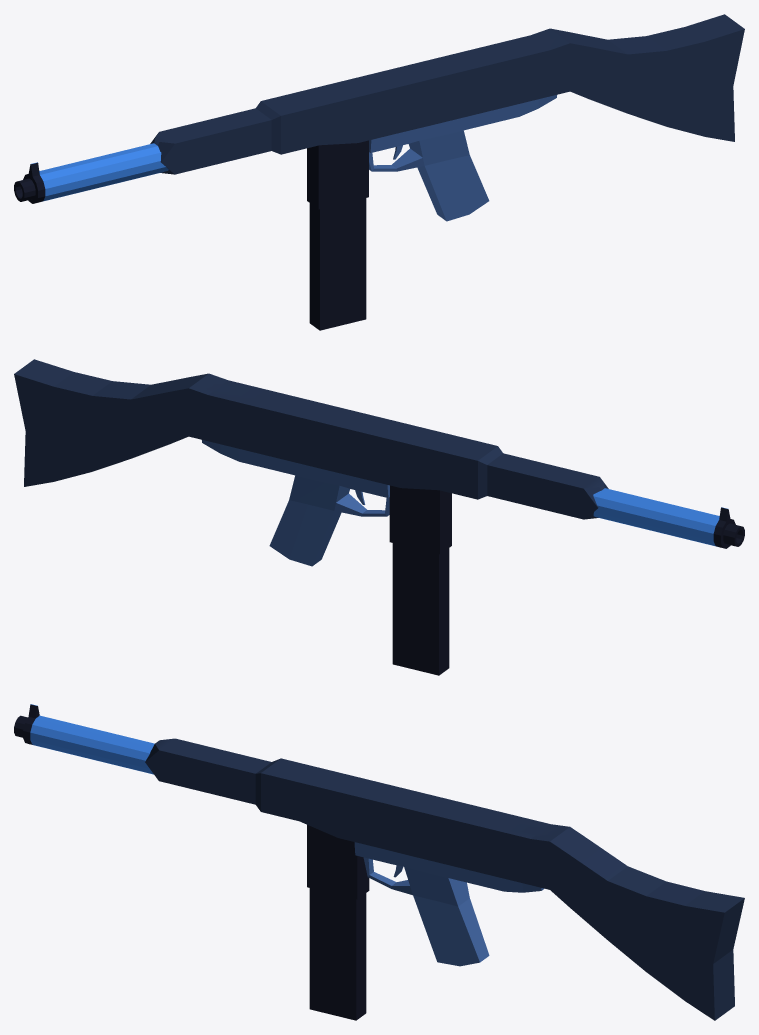
File: Light Rifle.fbx
3 renders of one model, top to bottom at view 1: azimuth 30°, elevation 25°; view 2: azimuth 150°, elevation 25°; view 3: azimuth 330°, elevation 25°, orthographic.
Visible parts, largest first — view 1: Cube, Cube.002, Cube.001, Cylinder; view 2: Cube, Cube.002, Cube.001, Cylinder; view 3: Cube, Cube.002, Cube.001, Cylinder.
Boxes of the visible parts, x1,y1,x2,y2 form: Cube: (150, 14, 744, 174); Cube.002: (307, 140, 368, 330); Cube.001: (369, 95, 556, 221); Cylinder: (14, 143, 168, 203); Cube: (14, 359, 608, 519); Cube.002: (389, 485, 451, 675); Cube.001: (202, 440, 389, 566); Cylinder: (593, 488, 744, 548); Cube: (145, 738, 744, 1020); Cube.002: (307, 825, 369, 1020); Cube.001: (354, 842, 543, 966); Cylinder: (14, 704, 154, 774).
Size of the model in its own units: 436 by 135 by 21.31.
